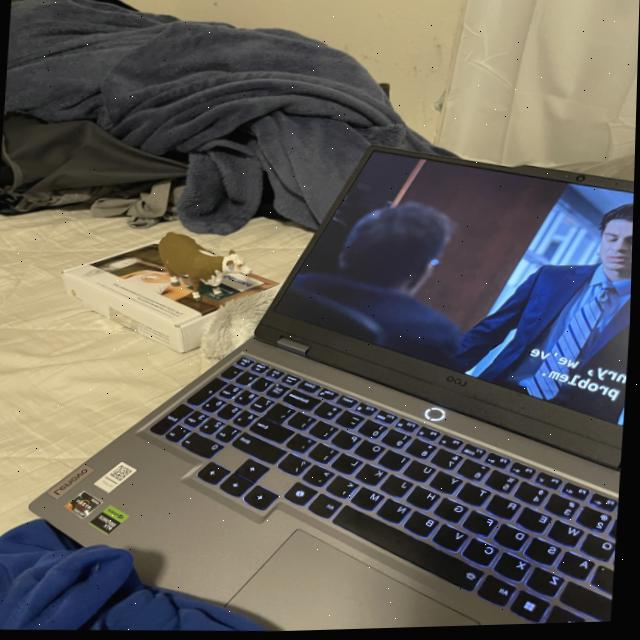cow: (148, 230, 257, 314)
